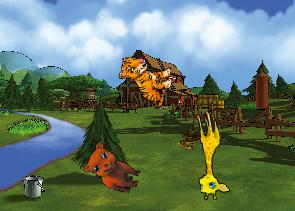bear: (79, 139, 147, 196)
giraffe: (184, 108, 231, 202)
tiger: (114, 53, 176, 108)
